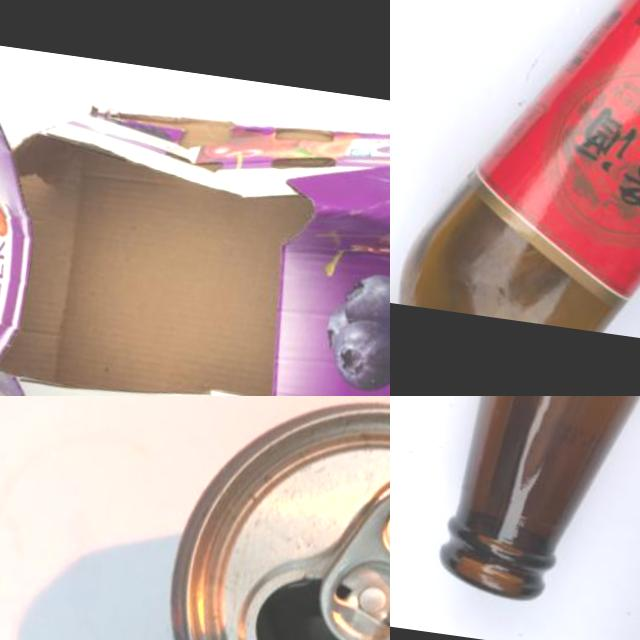aba de lata: (311, 472, 390, 640)
garrafa de vidro: (396, 0, 640, 365), (437, 396, 640, 626)
lata: (147, 396, 390, 640)
papelão: (0, 31, 390, 396)
